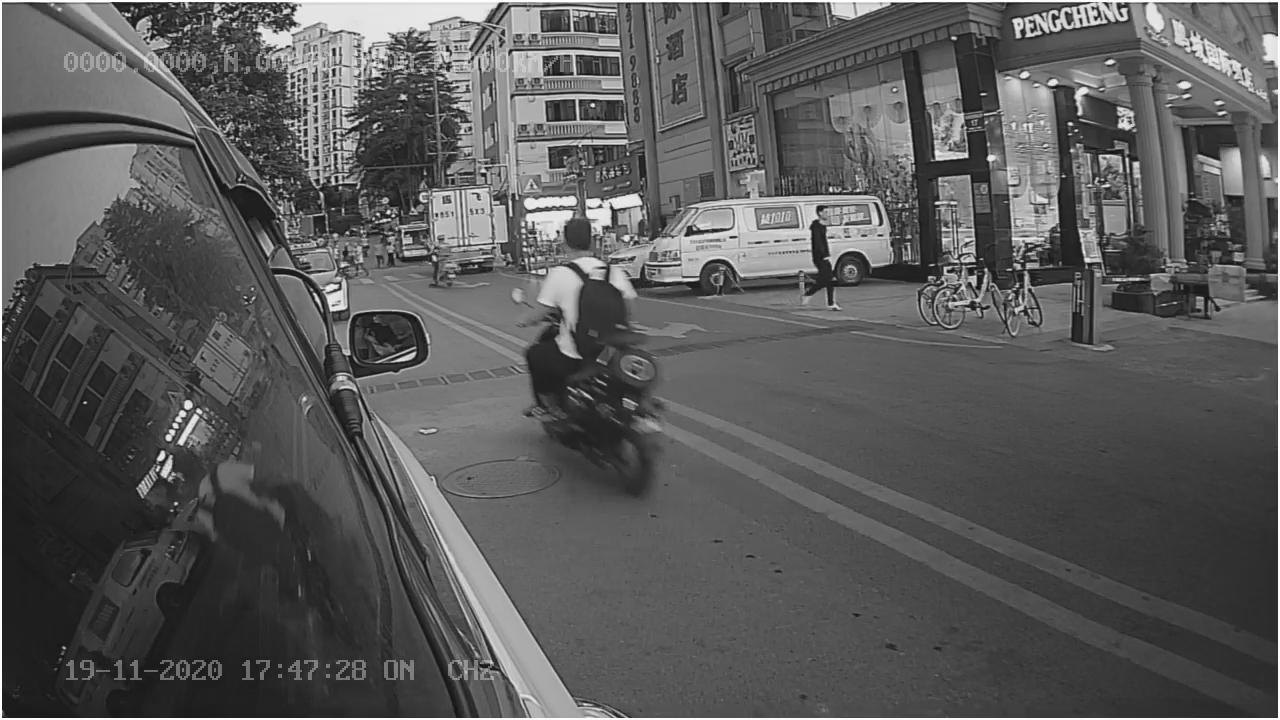person: (526, 220, 629, 366)
